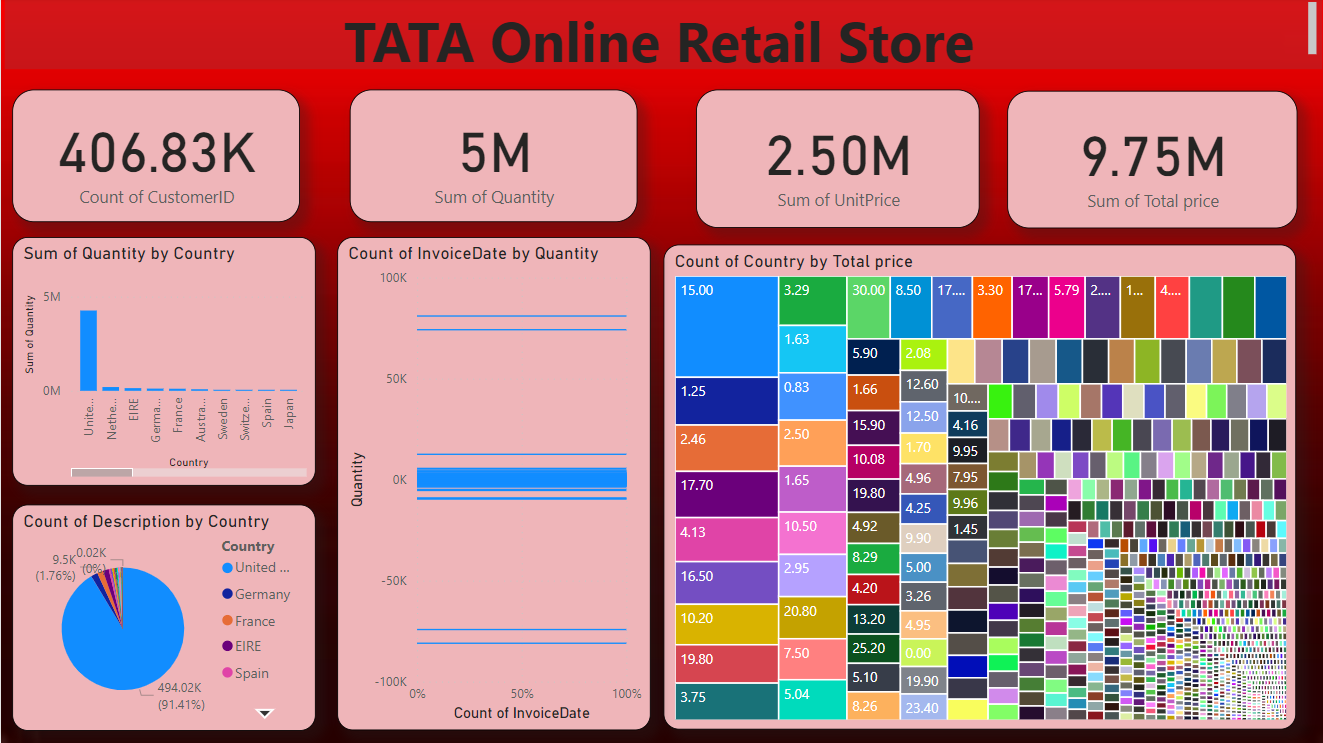

The dashboard page shown, as its layout file describes it:
{"tool":"powerbi","page":{"name":"Page 1","canvas":[1280,720],"ordinal":0},"visuals":[{"type":"textbox","box":[4.1,0,1271,69.9],"z":0},{"type":"card","fields":{"Values":["CountNonNull(Online Retail.CustomerID)"]},"box":[10.9,89.2,277.4,127.8],"z":1000},{"type":"card","fields":{"Values":["Sum(Online Retail.Quantity)"]},"box":[336.5,89.2,277.4,127.8],"z":2000},{"type":"card","fields":{"Values":["Sum(Online Retail.UnitPrice)"]},"box":[670.6,89.2,273.8,133.9],"z":3000},{"type":"card","fields":{"Values":["Sum(Online Retail.Total price)"]},"box":[970.9,90.5,279.8,132.7],"z":4000},{"type":"clusteredColumnChart","fields":{"Category":["Online Retail.Country"],"Y":["Sum(Online Retail.Quantity)"]},"box":[10.9,231.6,293.1,240],"z":5000},{"type":"pieChart","fields":{"Category":["Online Retail.Country"],"Y":["CountNonNull(Online Retail.Description)"]},"box":[10.9,489.6,293.1,218.3],"z":6000},{"type":"treemap","fields":{"Group":["Online Retail.Total price"],"Values":["CountNonNull(Online Retail.Country)"]},"box":[639.2,238.8,610.3,467.9],"z":7000},{"type":"hundredPercentStackedBarChart","fields":{"Y":["CountNonNull(Online Retail.InvoiceDate)"],"Category":["Online Retail.Quantity"]},"box":[324.4,231.6,302.7,476.4],"z":8000}]}

Visuals, with their boxes in screenshot pixels (x1, y1, x2, y2), scaled from the page's 1280x720 canvas onto the 1323x743 screenshot:
textbox: {"x1": 4, "y1": 0, "x2": 1318, "y2": 72}
card - CountNonNull(Online Retail.CustomerID): {"x1": 11, "y1": 92, "x2": 298, "y2": 224}
card - Sum(Online Retail.Quantity): {"x1": 348, "y1": 92, "x2": 635, "y2": 224}
card - Sum(Online Retail.UnitPrice): {"x1": 693, "y1": 92, "x2": 976, "y2": 230}
card - Sum(Online Retail.Total price): {"x1": 1004, "y1": 93, "x2": 1293, "y2": 230}
clusteredColumnChart - Online Retail.Country x Sum(Online Retail.Quantity): {"x1": 11, "y1": 239, "x2": 314, "y2": 487}
pieChart - Online Retail.Country x CountNonNull(Online Retail.Description): {"x1": 11, "y1": 505, "x2": 314, "y2": 731}
treemap - Online Retail.Total price x CountNonNull(Online Retail.Country): {"x1": 661, "y1": 246, "x2": 1291, "y2": 729}
hundredPercentStackedBarChart - CountNonNull(Online Retail.InvoiceDate) x Online Retail.Quantity: {"x1": 335, "y1": 239, "x2": 648, "y2": 731}
